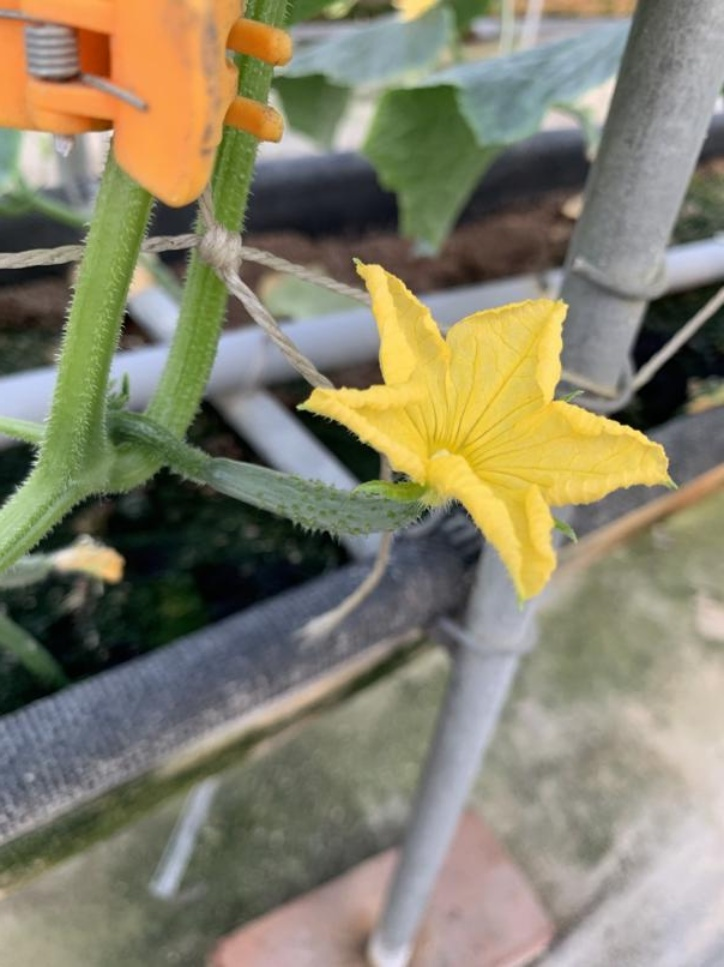flowering: (148, 273, 646, 590)
